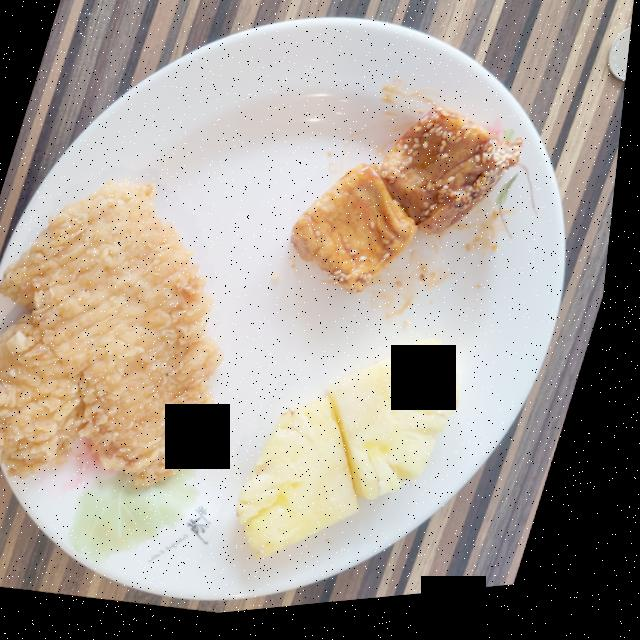coin: (609, 39, 633, 94)
creamy tofu: (295, 115, 527, 300)
fried chicken cutlet: (0, 183, 230, 490)
pineapple: (247, 347, 468, 565)
